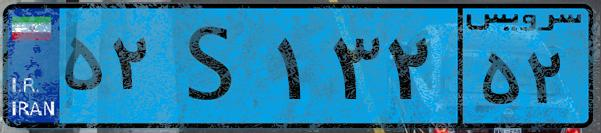1: (270, 28, 330, 110)
2: (385, 28, 445, 110), (525, 38, 570, 115), (110, 28, 158, 98)
3: (330, 28, 385, 110)
5: (57, 26, 110, 100), (475, 38, 525, 113)
S: (158, 12, 270, 120)
